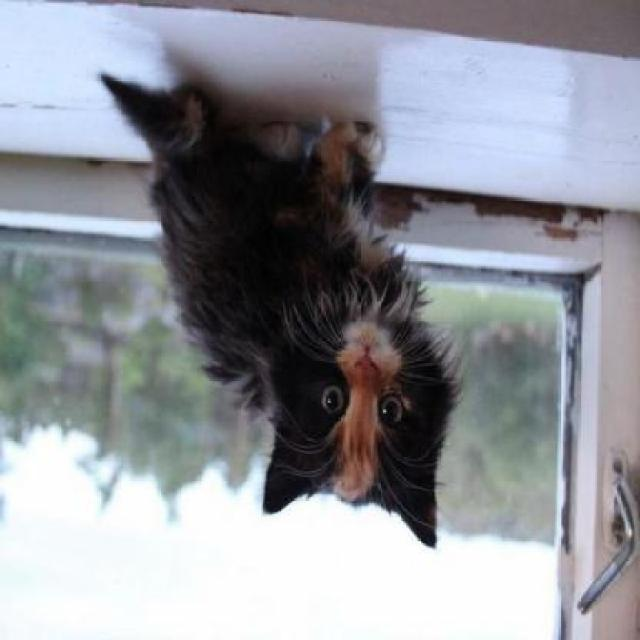cat: (82, 91, 480, 547)
